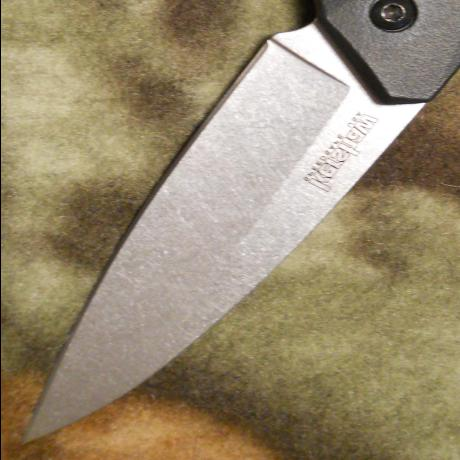weapon: (30, 0, 460, 439)
